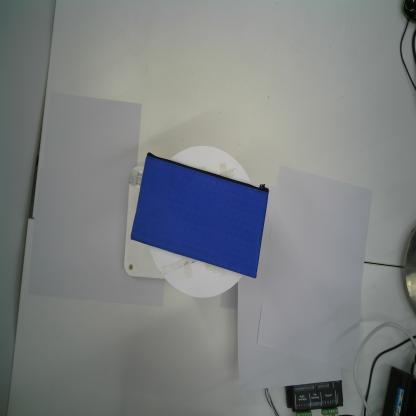Stationery: (126, 149, 270, 281)
